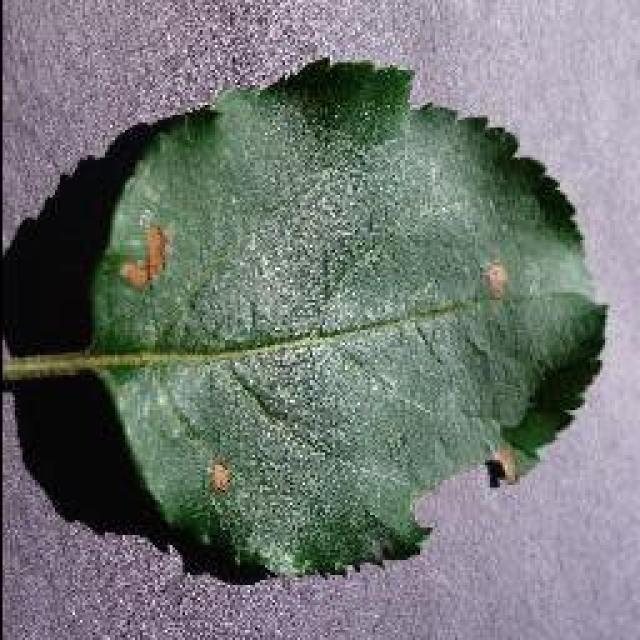apple healthy: (2, 52, 610, 582)
